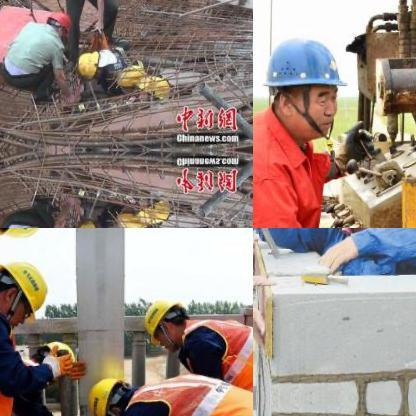Helmet: (254, 22, 352, 142), (0, 251, 57, 323), (140, 296, 188, 348), (31, 338, 80, 376), (88, 374, 133, 415), (136, 188, 170, 222), (136, 76, 170, 108), (0, 228, 59, 246), (74, 48, 104, 78), (117, 62, 145, 94), (117, 203, 146, 227), (45, 11, 71, 37), (74, 218, 105, 227)
